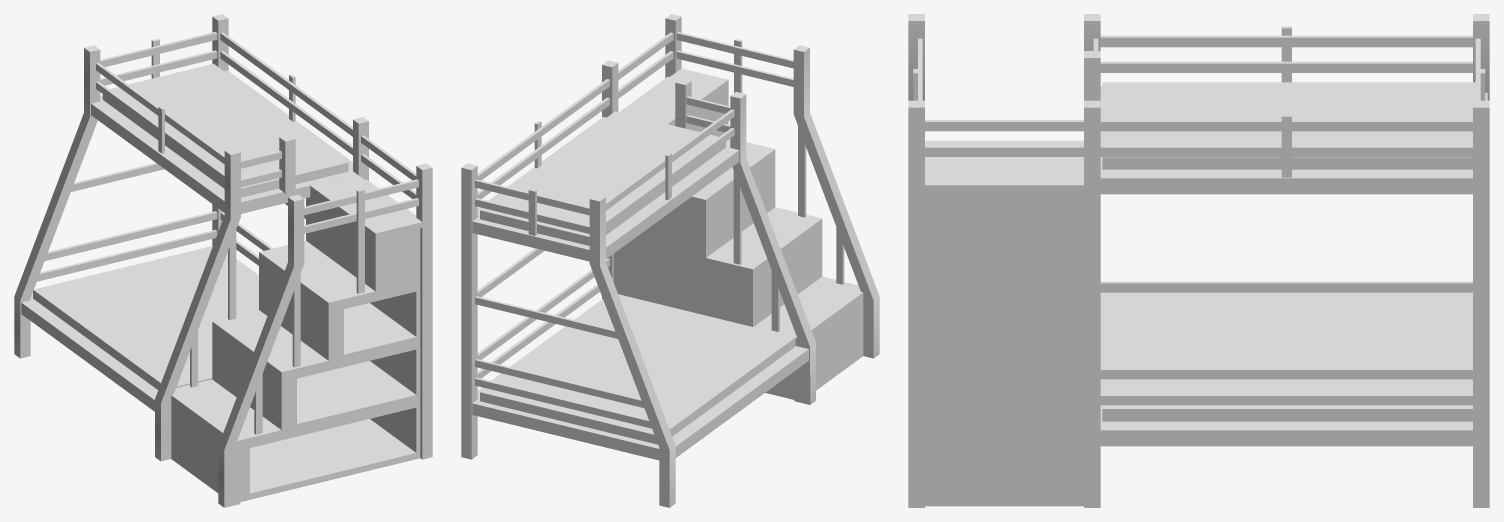
Rendered from Itr_Bed_Bunk2_04.FBX.
The picture shows the model from 3 angles, left to right: view 1: azimuth 30°, elevation 25°; view 2: azimuth 150°, elevation 25°; view 3: azimuth 270°, elevation 25°; orthographic projection. The views are drawn at different scales.
Parts seen in each view (by area): view 1: Itr_Bed_Bunk2_04; view 2: Itr_Bed_Bunk2_04; view 3: Itr_Bed_Bunk2_04.
Part boxes in pixels (x1,y1,x2,y2): Itr_Bed_Bunk2_04: (14, 14, 432, 507); Itr_Bed_Bunk2_04: (461, 14, 879, 507); Itr_Bed_Bunk2_04: (908, 14, 1489, 507).
Size of the model in its own units: 79.49 by 106 by 139.
